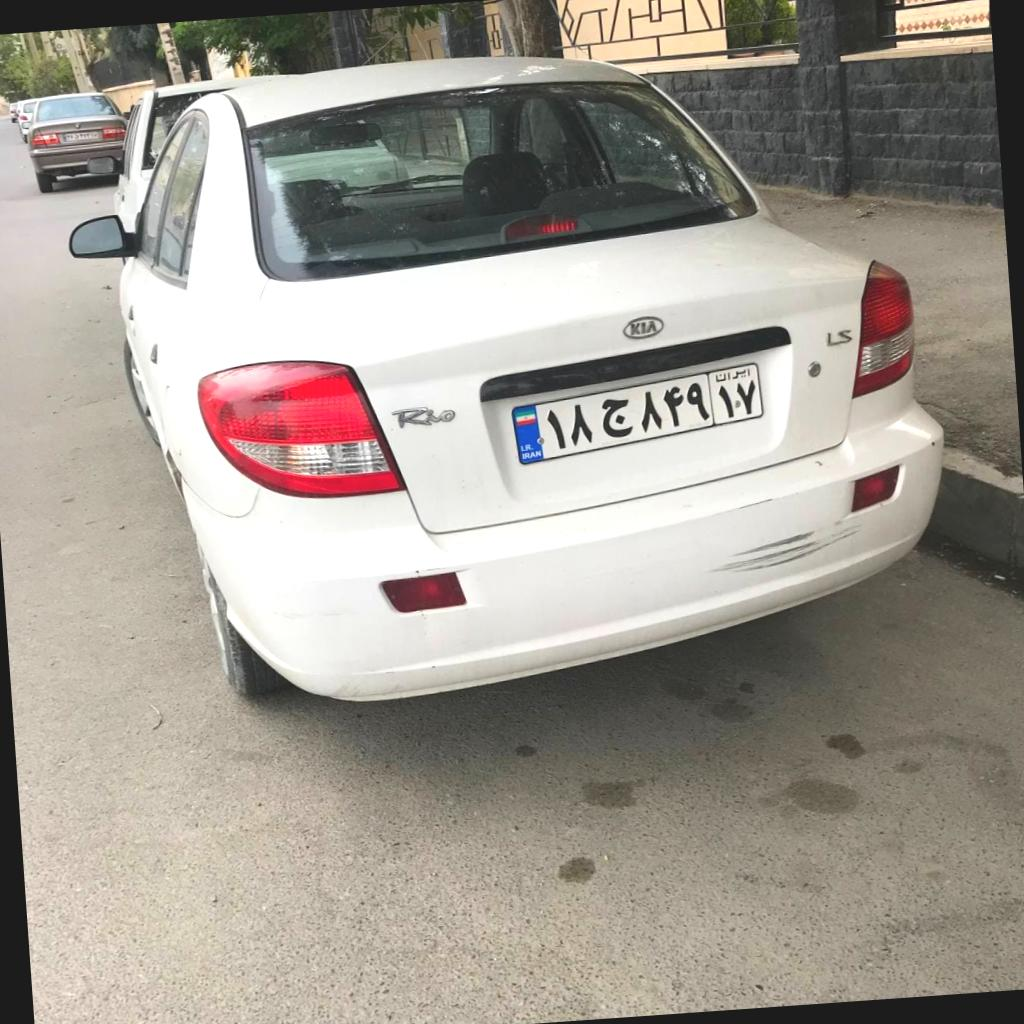Plates: (512, 364, 762, 464)
